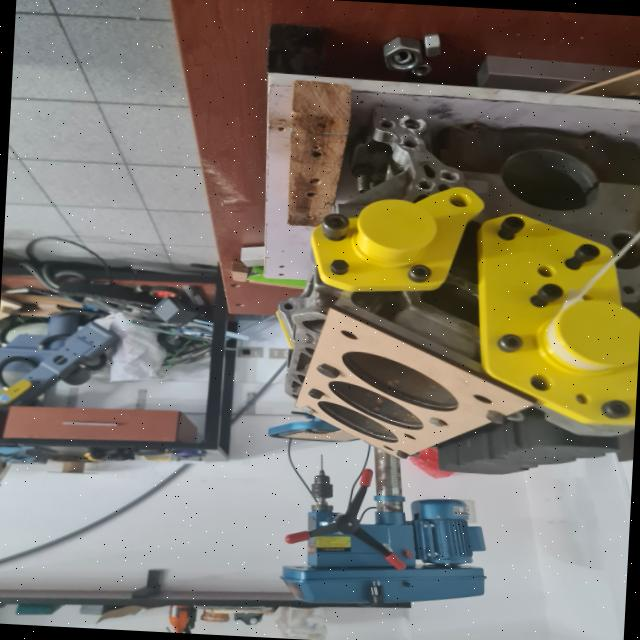tor_v1: (297, 306, 533, 458)
